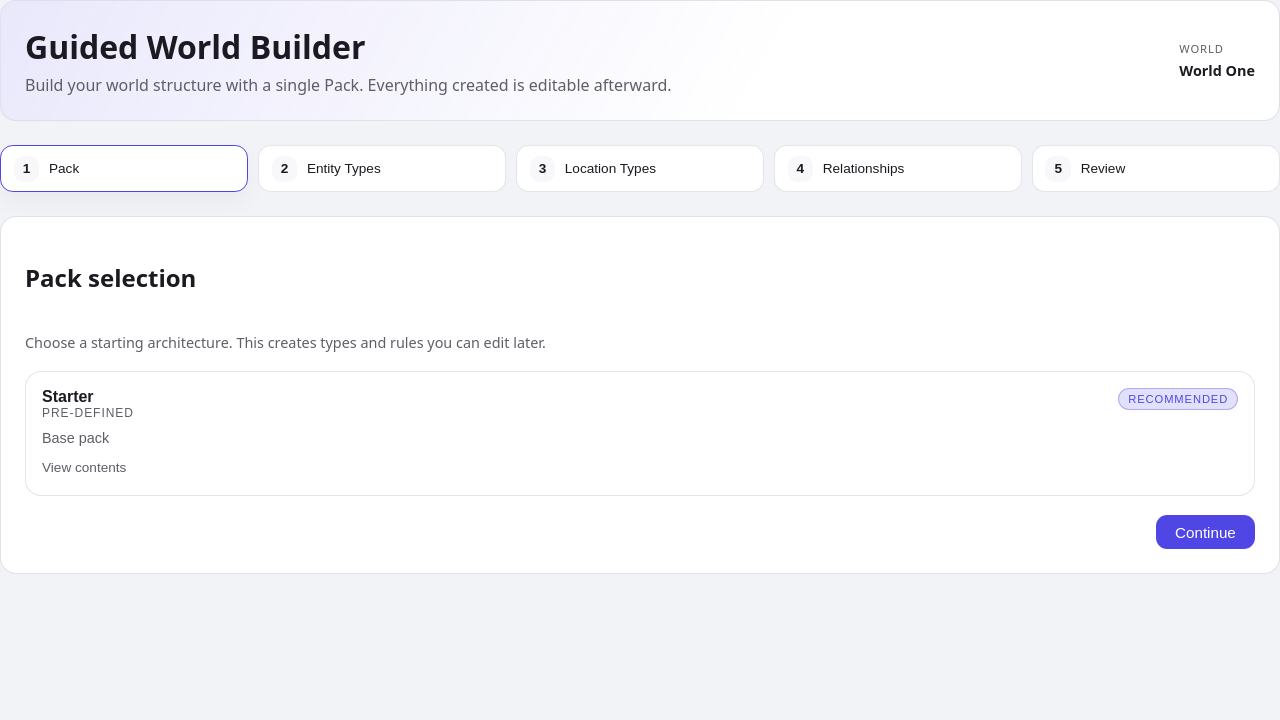
it: WorldBuilder › shows a tooltip for long descriptions
Click the text "Starter": x=68, y=397 [42,388,94,405]
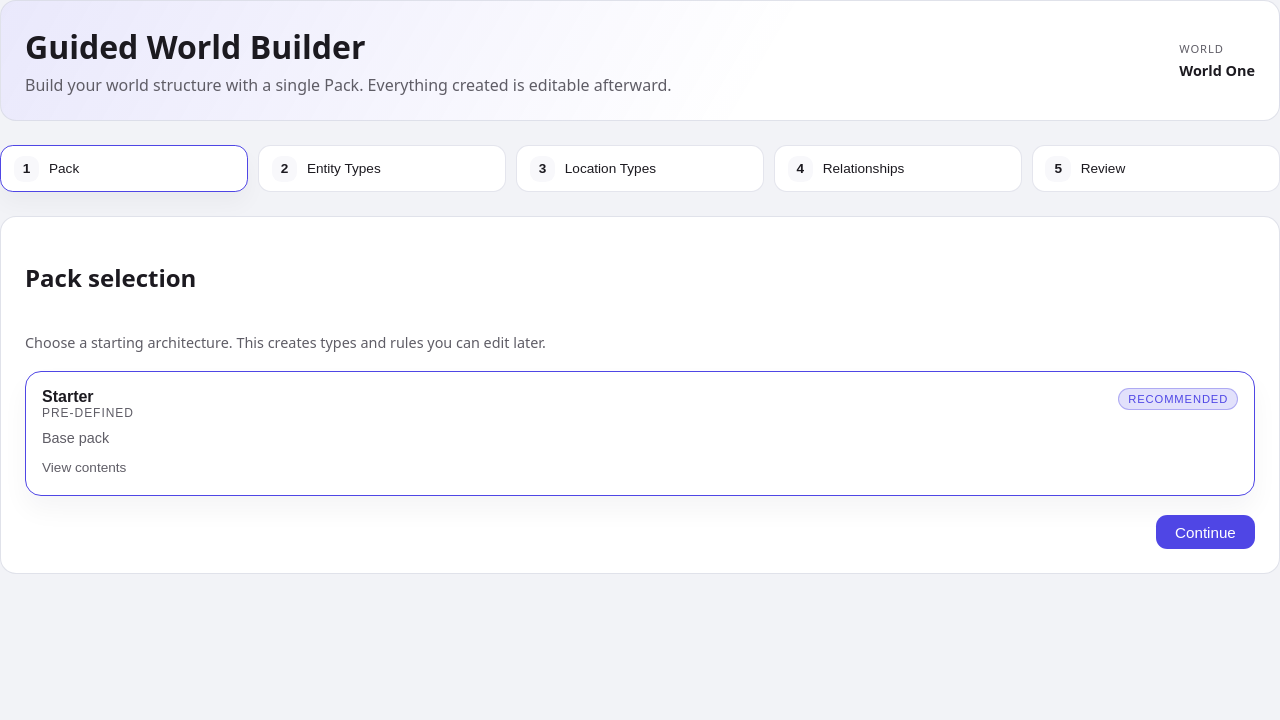
Click the button "Continue": x=1205, y=532 [1156,515,1255,549]
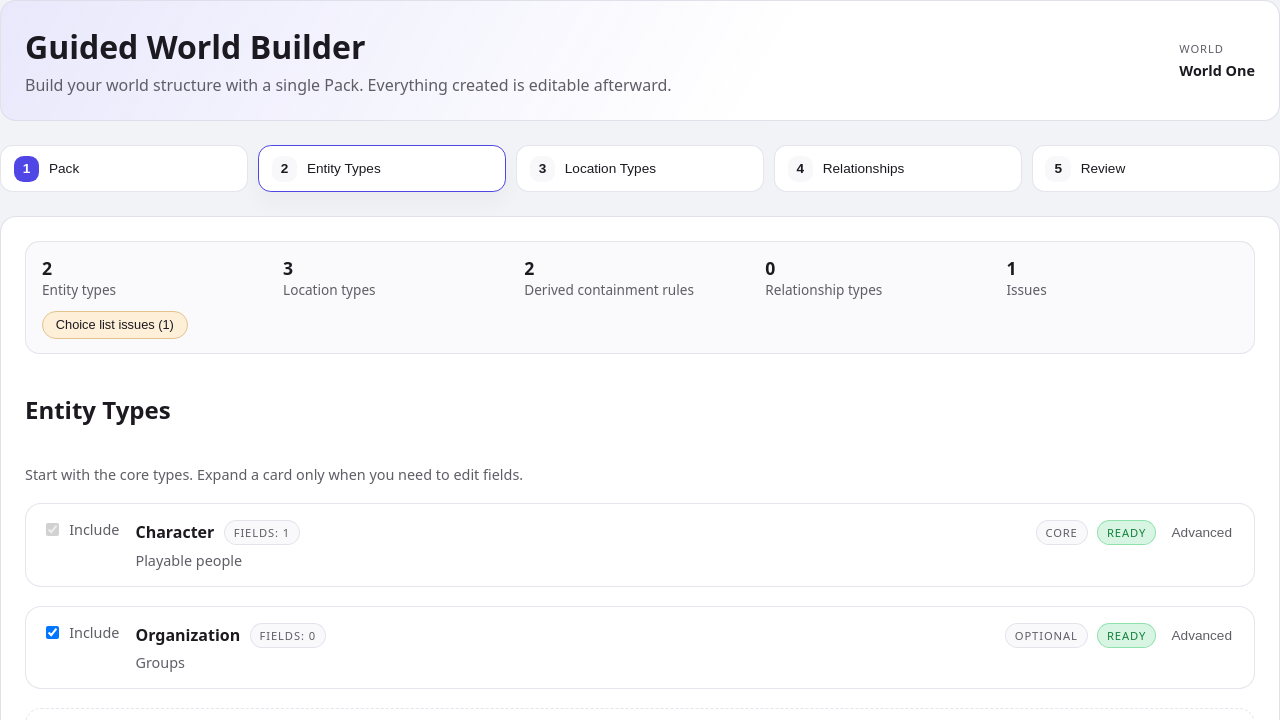
Expected: the heading "Entity Types" is shown, [25,393,171,426]
